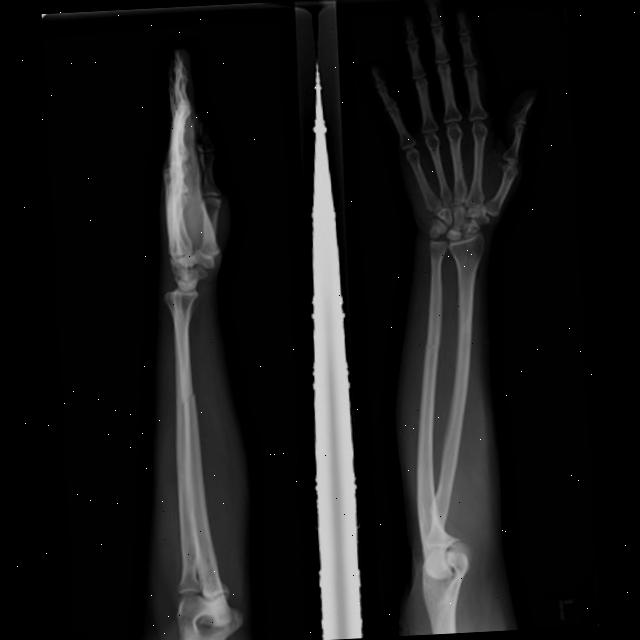Fracture: (174, 384, 195, 409), (423, 332, 442, 355)
